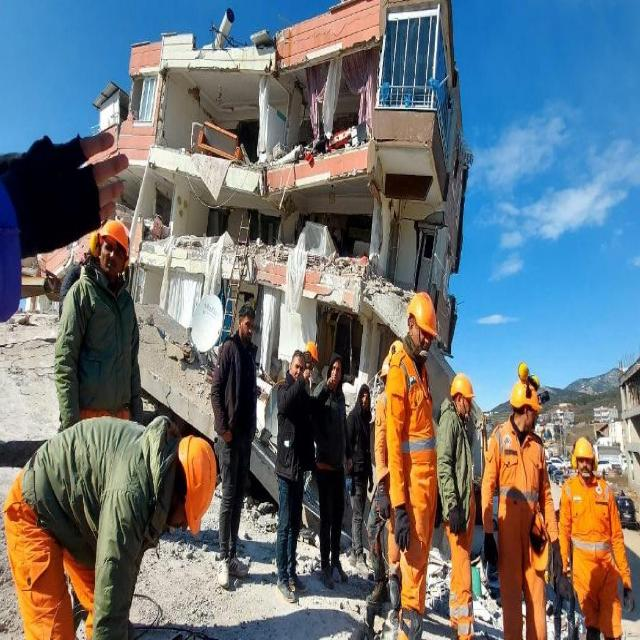Reflective-Jacket: (380, 343, 437, 512), (562, 473, 622, 587), (488, 422, 548, 530), (176, 431, 218, 535)
Safety-Helmet: (406, 288, 439, 334), (99, 215, 130, 261), (508, 378, 538, 411), (450, 368, 474, 399), (571, 433, 596, 462), (517, 358, 530, 379)
